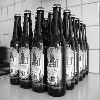beer: (48, 4, 69, 97)
